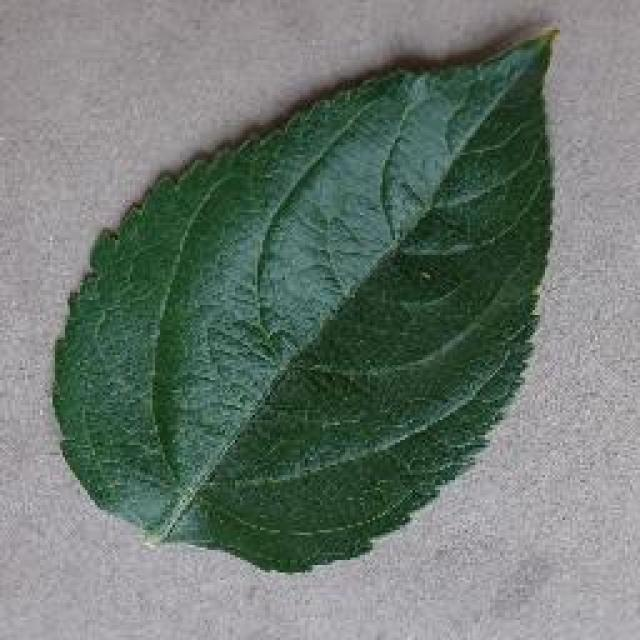apple healthy: (48, 20, 562, 575)
